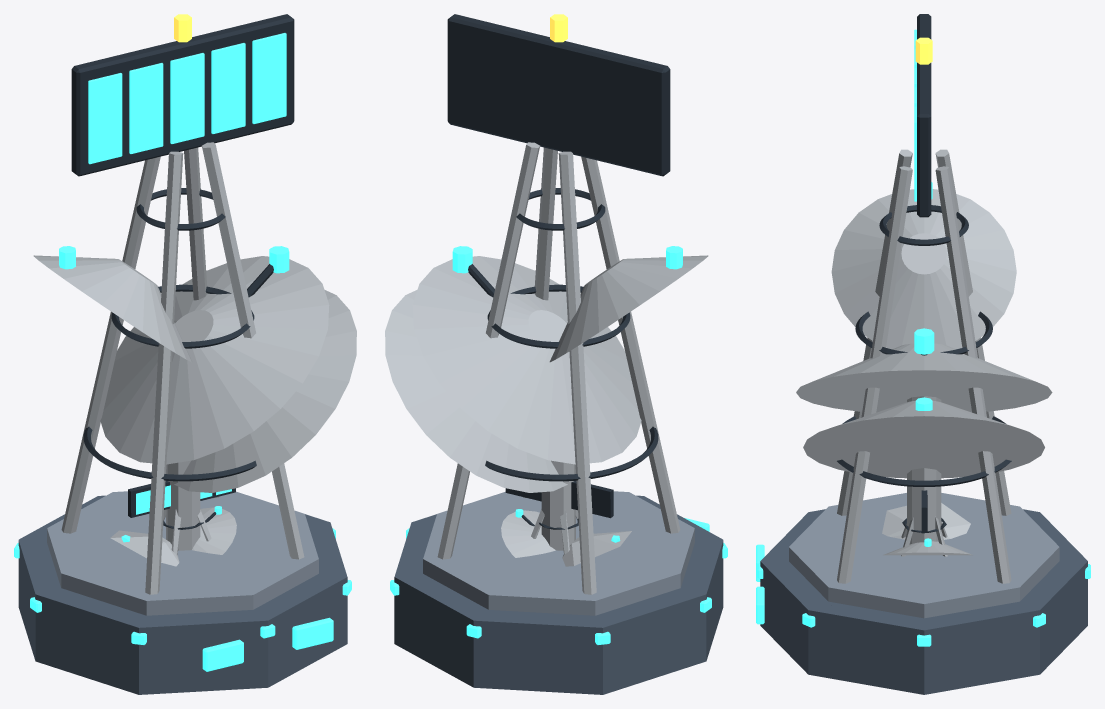
File: sensor_array.glb
3 views of the same model, side by side, from view 1: azimuth 30°, elevation 25°; view 2: azimuth 150°, elevation 25°; view 3: azimuth 270°, elevation 25° (orthographic). The views are drawn at different scales.
Parts seen in each view (by area): view 1: Sensor | dish__Facility_sensor_array_T1, Sensor | plinth.001__Facility_sensor_array_T2, Sensor | collar.001__Facility_sensor_array_T2, Sensor | phased array__Facility_sensor_array_T2, Sensor | dish.001__Facility_sensor_array_T2, Sensor | lattice leg.002__Facility_sensor_array_T2, Sensor | dish.002__Facility_sensor_array_T2, Sensor | lattice leg.001__Facility_sensor_array_T2, Sensor | lattice leg.003__Facility_sensor_array_T2, Sensor | array tile.002__Facility_sensor_array_T2, Sensor | array tile.003__Facility_sensor_array_T2, Sensor | array tile.004__Facility_sensor_array_T2 (+13 smaller); view 2: Sensor | plinth.001__Facility_sensor_array_T2, Sensor | dish__Facility_sensor_array_T1, Sensor | phased array__Facility_sensor_array_T2, Sensor | collar.001__Facility_sensor_array_T2, Sensor | dish.001__Facility_sensor_array_T2, Sensor | lattice leg.001__Facility_sensor_array_T2, Sensor | dish.002__Facility_sensor_array_T2, Sensor | lattice leg.002__Facility_sensor_array_T2, Sensor | lattice leg__Facility_sensor_array_T2, IonBlue.001, Sensor | lattice leg.003__Facility_sensor_array_T2, Sensor | mast__Facility_sensor_array_T1 (+4 smaller); view 3: Sensor | plinth.001__Facility_sensor_array_T2, Sensor | dish.002__Facility_sensor_array_T2, Sensor | collar.001__Facility_sensor_array_T2, Sensor | dish.001__Facility_sensor_array_T2, Sensor | dish__Facility_sensor_array_T1, Sensor | collar__Facility_sensor_array_T1, Sensor | lattice leg__Facility_sensor_array_T2, Sensor | lattice leg.003__Facility_sensor_array_T2, Sensor | phased array__Facility_sensor_array_T2, IonBlue.001, Sensor | mast__Facility_sensor_array_T1, Sensor | plinth__Facility_sensor_array_T1 (+6 smaller).
Boxes of the visible parts, x1=… form: Sensor | dish__Facility_sensor_array_T1: x1=100, y1=256, x2=329, y2=464; Sensor | plinth.001__Facility_sensor_array_T2: x1=18, y1=495, x2=347, y2=694; Sensor | collar.001__Facility_sensor_array_T2: x1=47, y1=491, x2=318, y2=615; Sensor | phased array__Facility_sensor_array_T2: x1=71, y1=14, x2=294, y2=176; Sensor | dish.001__Facility_sensor_array_T2: x1=174, y1=290, x2=356, y2=492; Sensor | lattice leg.002__Facility_sensor_array_T2: x1=145, y1=151, x2=183, y2=594; Sensor | dish.002__Facility_sensor_array_T2: x1=33, y1=255, x2=192, y2=362; Sensor | lattice leg.001__Facility_sensor_array_T2: x1=61, y1=156, x2=160, y2=533; Sensor | lattice leg.003__Facility_sensor_array_T2: x1=202, y1=142, x2=304, y2=559; Sensor | array tile.002__Facility_sensor_array_T2: x1=170, y1=53, x2=204, y2=143; Sensor | array tile.003__Facility_sensor_array_T2: x1=211, y1=43, x2=245, y2=133; Sensor | array tile.004__Facility_sensor_array_T2: x1=252, y1=33, x2=286, y2=123; Sensor | plinth.001__Facility_sensor_array_T2: x1=394, y1=495, x2=723, y2=694; Sensor | dish__Facility_sensor_array_T1: x1=412, y1=256, x2=641, y2=464; Sensor | phased array__Facility_sensor_array_T2: x1=447, y1=14, x2=670, y2=176; Sensor | collar.001__Facility_sensor_array_T2: x1=423, y1=491, x2=694, y2=615; Sensor | dish.001__Facility_sensor_array_T2: x1=385, y1=290, x2=567, y2=492; Sensor | lattice leg.001__Facility_sensor_array_T2: x1=558, y1=151, x2=596, y2=594; Sensor | dish.002__Facility_sensor_array_T2: x1=549, y1=255, x2=708, y2=362; Sensor | lattice leg.002__Facility_sensor_array_T2: x1=581, y1=156, x2=680, y2=533; Sensor | lattice leg__Facility_sensor_array_T2: x1=437, y1=142, x2=539, y2=559; IonBlue.001: x1=505, y1=480, x2=631, y2=566; Sensor | lattice leg.003__Facility_sensor_array_T2: x1=523, y1=147, x2=557, y2=497; Sensor | mast__Facility_sensor_array_T1: x1=541, y1=460, x2=575, y2=550; Sensor | plinth.001__Facility_sensor_array_T2: x1=760, y1=509, x2=1087, y2=694; Sensor | dish.002__Facility_sensor_array_T2: x1=831, y1=189, x2=1016, y2=349; Sensor | collar.001__Facility_sensor_array_T2: x1=789, y1=493, x2=1059, y2=618; Sensor | dish.001__Facility_sensor_array_T2: x1=803, y1=401, x2=1044, y2=478; Sensor | dish__Facility_sensor_array_T1: x1=796, y1=343, x2=1052, y2=412; Sensor | collar__Facility_sensor_array_T1: x1=825, y1=509, x2=1023, y2=588; Sensor | lattice leg__Facility_sensor_array_T2: x1=935, y1=166, x2=1011, y2=583; Sensor | lattice leg.003__Facility_sensor_array_T2: x1=837, y1=166, x2=912, y2=583; Sensor | phased array__Facility_sensor_array_T2: x1=917, y1=14, x2=931, y2=217; IonBlue.001: x1=882, y1=490, x2=970, y2=556; Sensor | mast__Facility_sensor_array_T1: x1=907, y1=396, x2=941, y2=544; Sensor | plinth__Facility_sensor_array_T1: x1=782, y1=554, x2=1066, y2=621.
Size of the model in its own units: 2.37 by 4.53 by 2.35.
